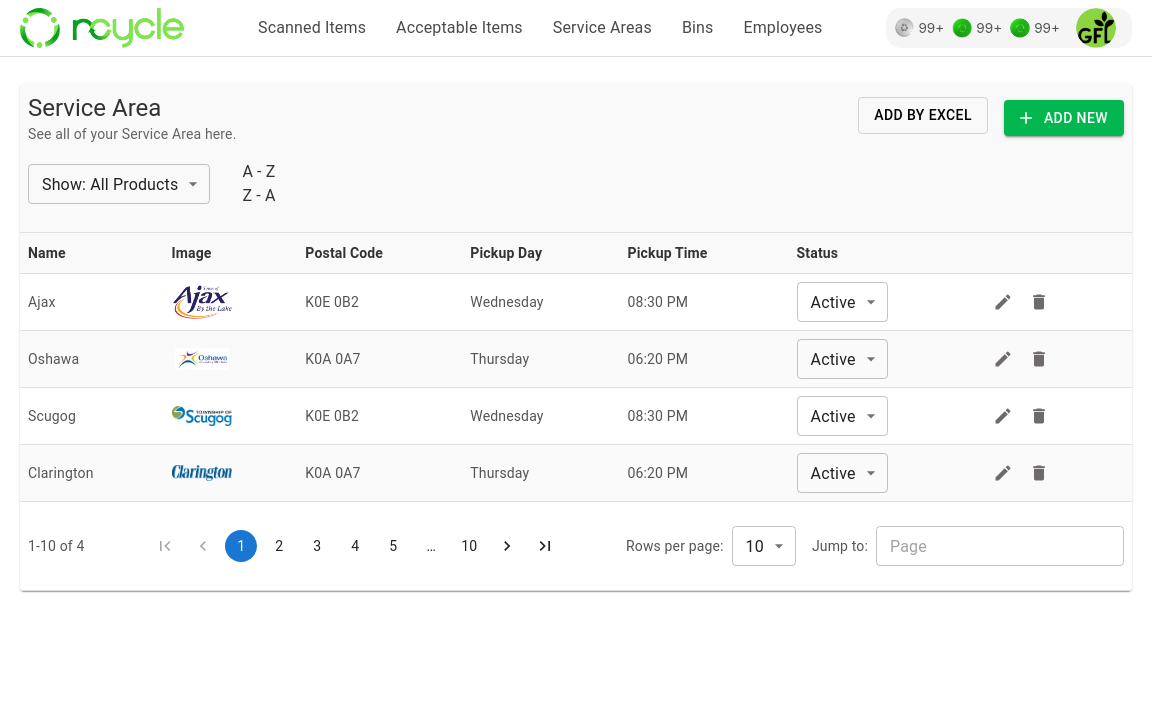
Scenario: ServiceAreas Component › opens and closes the add new service area modal
This screenshot has width=1152, height=720.
Click the button "Add New": (1064, 118) [1004, 100, 1124, 136]
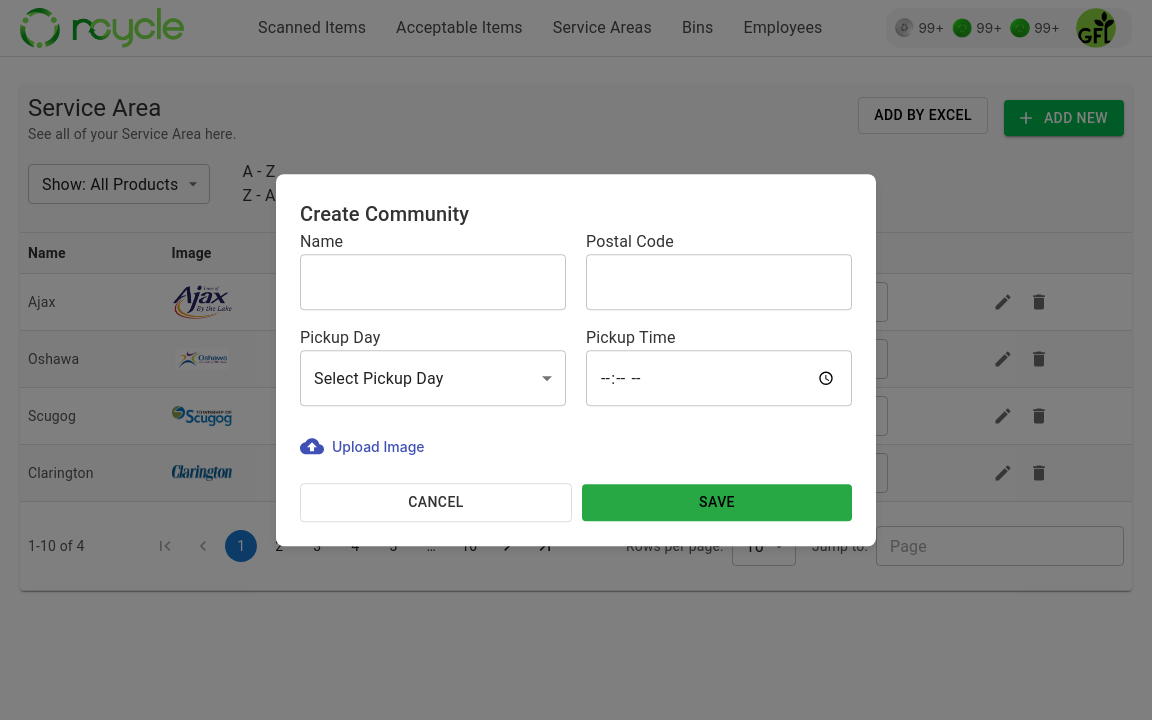
Expected: the heading "Create Community" is shown, [300, 202, 469, 226]
Click the button "Cancel": (436, 503) [300, 483, 572, 522]
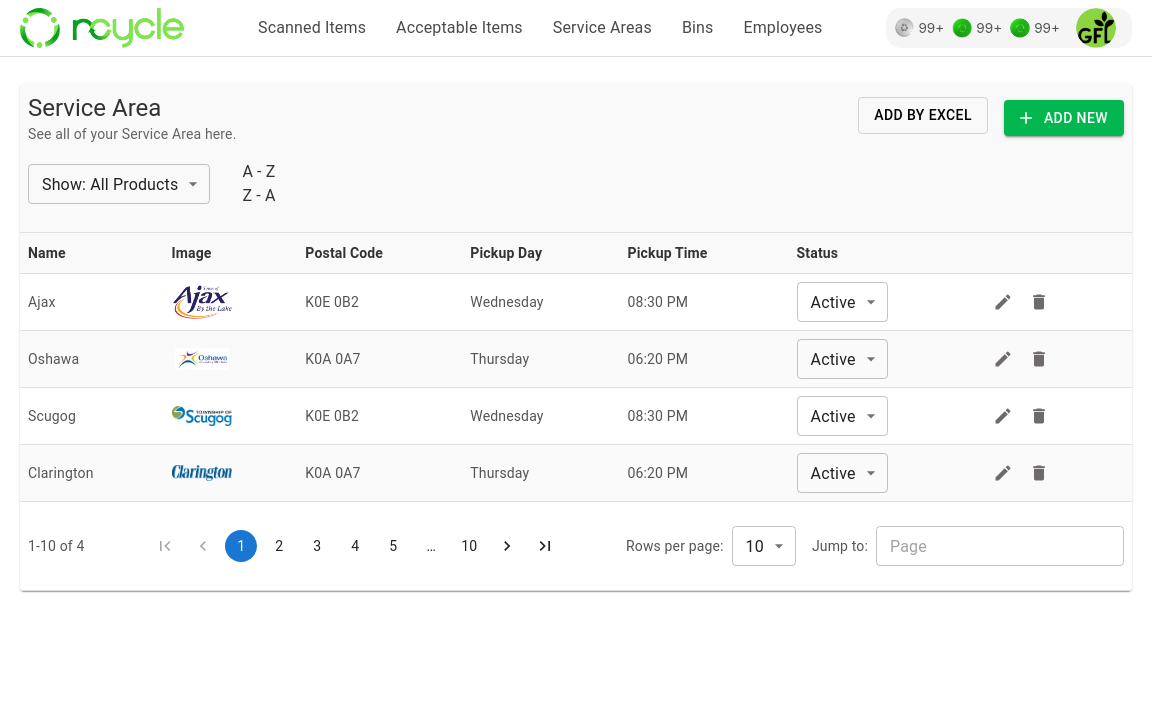
Expected: the heading "Create Community" is gone
